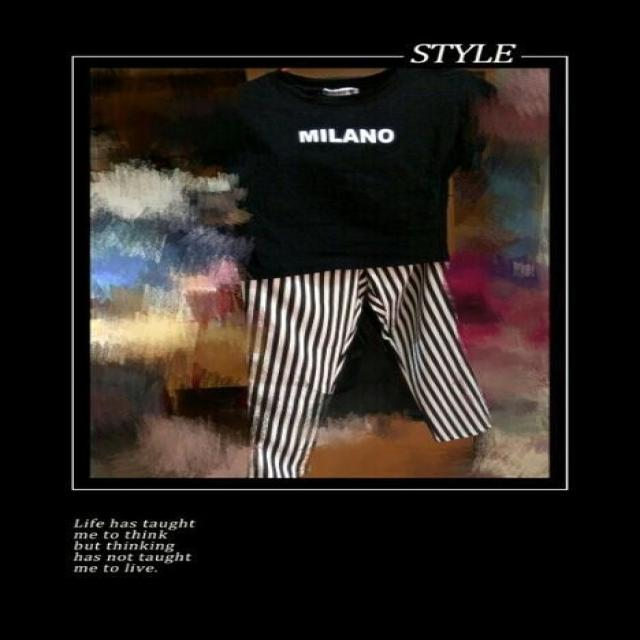short-sleeve-top: (223, 72, 546, 276)
trousers: (225, 288, 509, 479)
